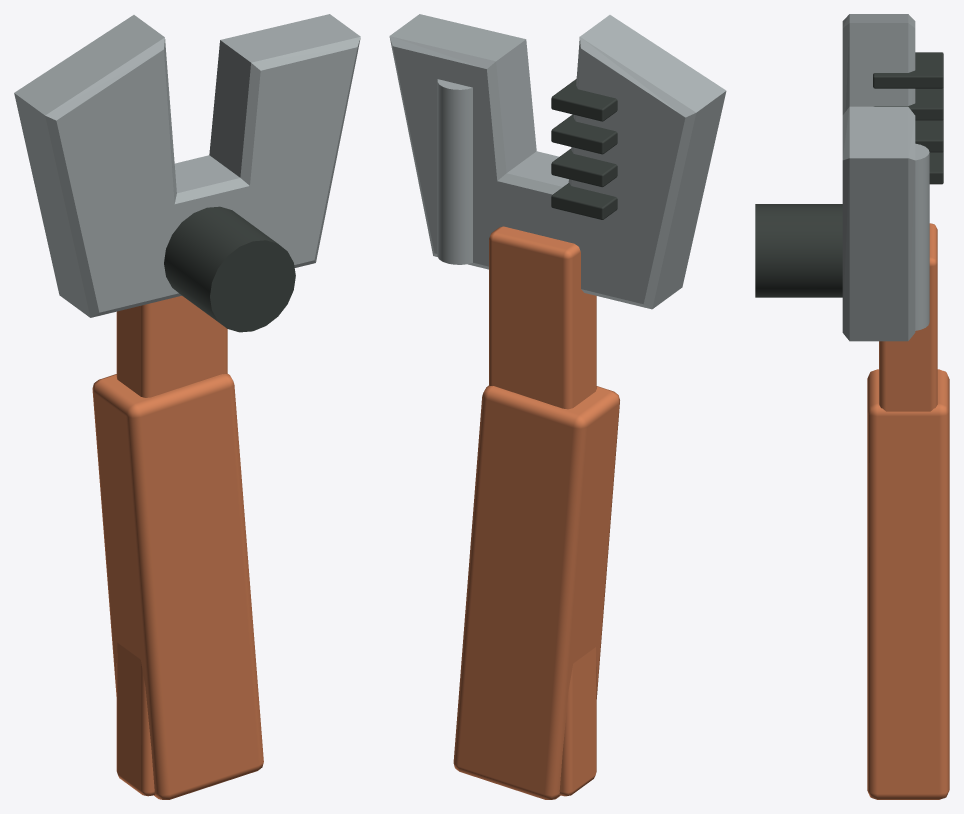
Rendered from salvage-and-repair-workshop-pipe-wrench-875ec263__25458.glb.
3 views of the same model, side by side, from view 1: azimuth 30°, elevation 25°; view 2: azimuth 150°, elevation 25°; view 3: azimuth 270°, elevation 25° (orthographic). The views are drawn at different scales.
Parts seen in each view (by area): view 1: pipe-wrench; view 2: pipe-wrench; view 3: pipe-wrench.
Boxes of the visible parts, x1,y1,x2,y2 form: pipe-wrench: (14,14,360,799); pipe-wrench: (389,14,726,799); pipe-wrench: (755,14,949,799).
Bounding box in the file's own units: 0.1468 × 0.3452 × 0.0825.
